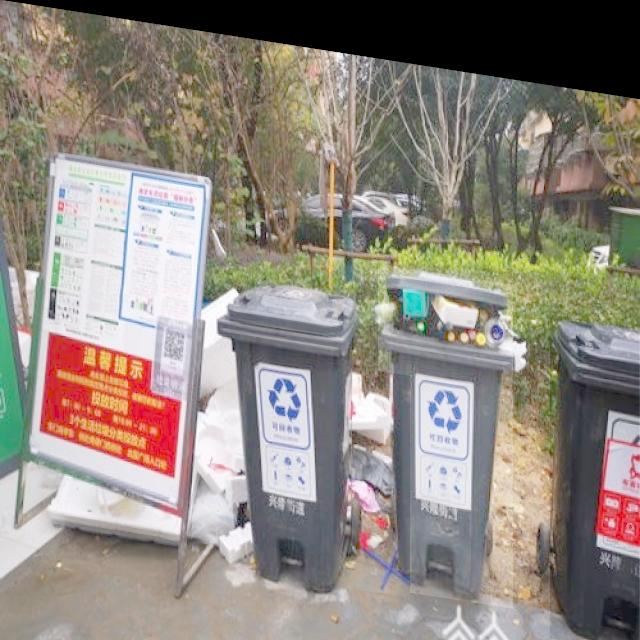garbage: (348, 355, 410, 585)
garbage_bin: (216, 266, 358, 590), (550, 296, 639, 632)
overflow: (378, 251, 513, 592)
